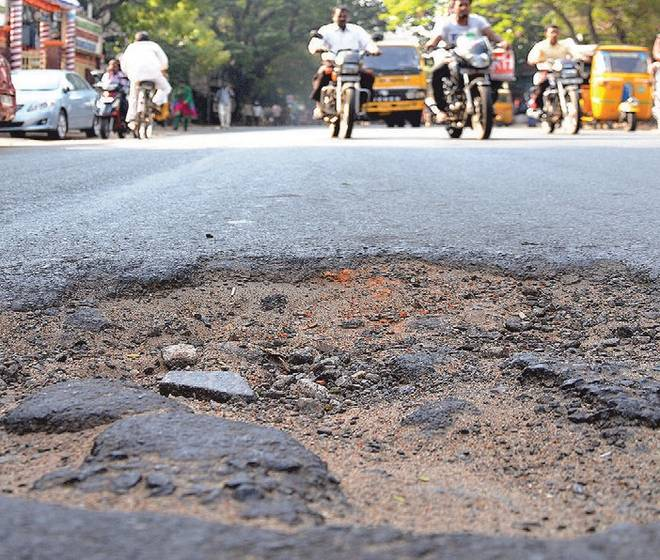pothole: (20, 253, 656, 542)
